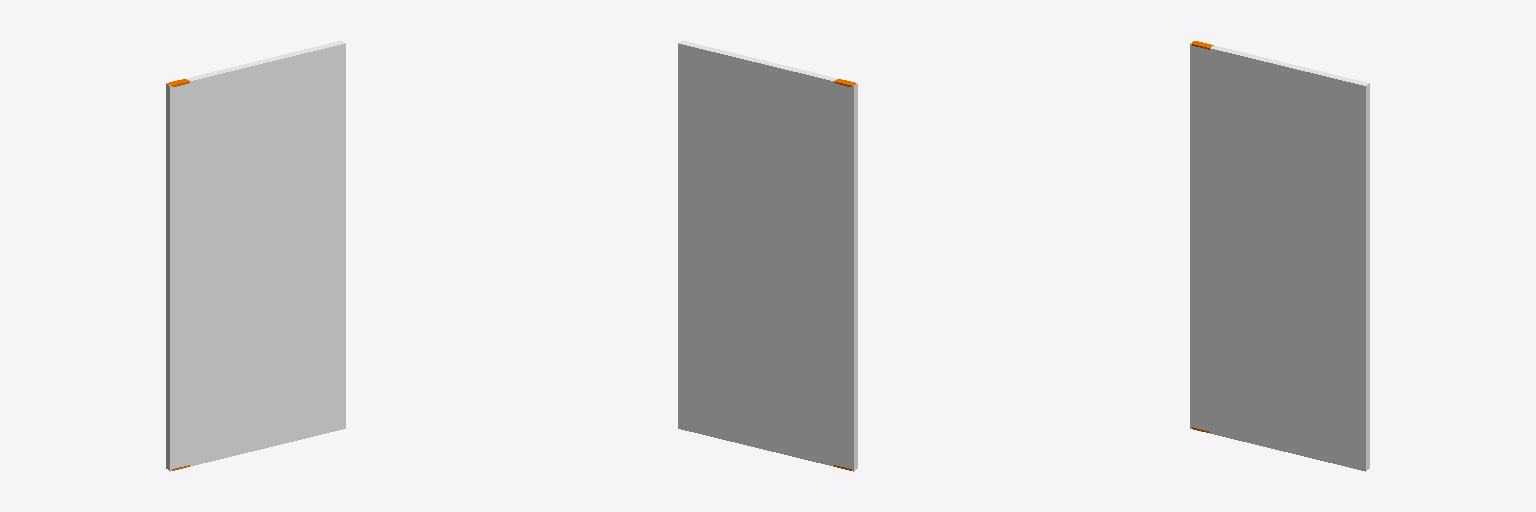
File: original-12.obj
The picture shows the model from 3 angles: view 1: azimuth 30°, elevation 25°; view 2: azimuth 150°, elevation 25°; view 3: azimuth 330°, elevation 25°; orthographic projection.
Parts seen in each view (by area): view 1: mesh5/mesh5-geometry#mesh5-geometry; view 2: mesh5/mesh5-geometry#mesh5-geometry; view 3: mesh5/mesh5-geometry#mesh5-geometry.
Part boxes in pixels (x1,y1,x2,y2): mesh5/mesh5-geometry#mesh5-geometry: (166,40,345,471); mesh5/mesh5-geometry#mesh5-geometry: (678,40,857,471); mesh5/mesh5-geometry#mesh5-geometry: (1190,40,1369,471).
Size of the model in its own units: 0.4405 by 0.925 by 0.0176.